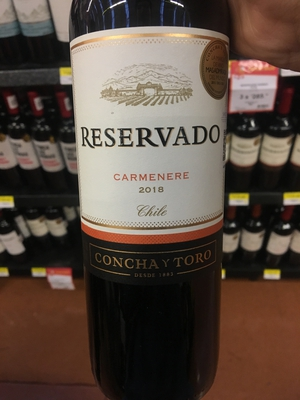reservado carmenere: (68, 1, 230, 390)
